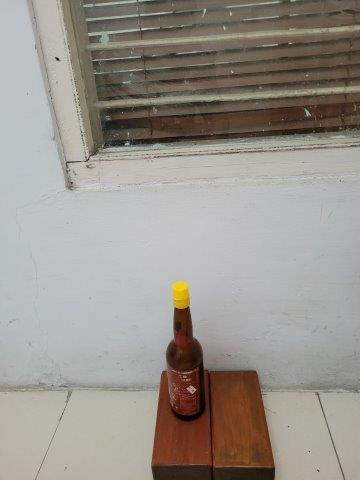botolkaca: (165, 283, 204, 420)
